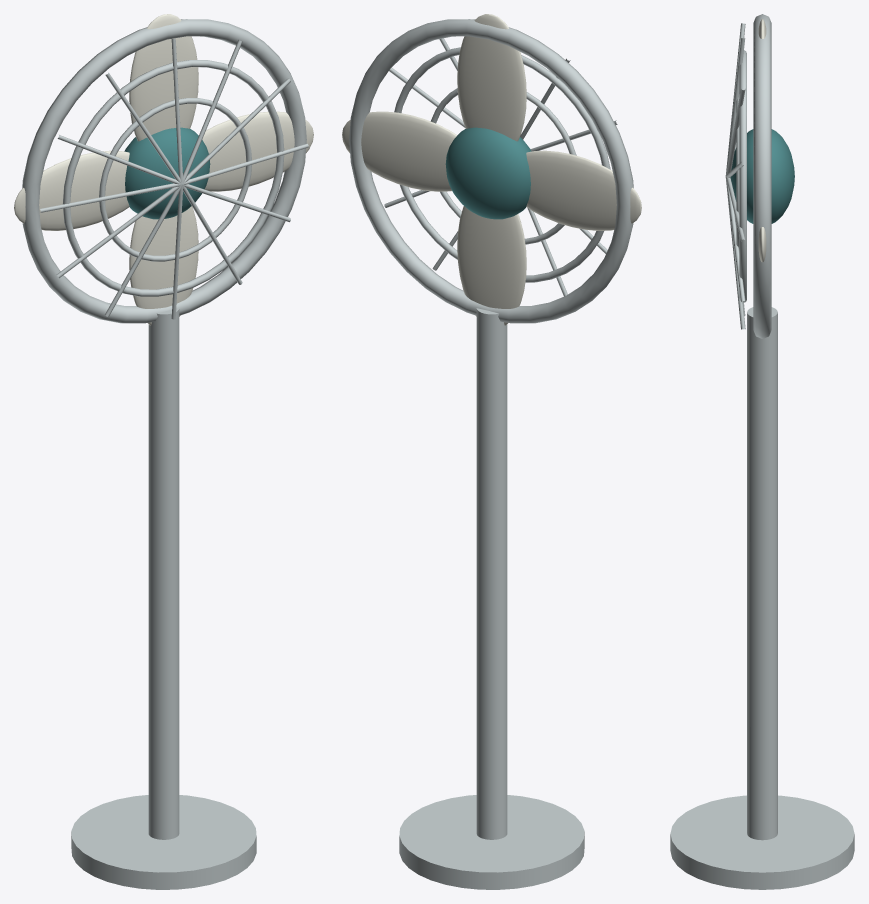
File: mushroom-farm-and-grow-rooms-circulation-fan-d5a1c149__30837.glb
The picture shows the model from 3 angles, left to right: view 1: azimuth 30°, elevation 25°; view 2: azimuth 150°, elevation 25°; view 3: azimuth 270°, elevation 25°; orthographic projection.
Visible parts, largest first — view 1: circulation-fan; view 2: circulation-fan; view 3: circulation-fan.
Part boxes in pixels (x1,y1,x2,y2): circulation-fan: [14, 14, 313, 889]; circulation-fan: [342, 14, 641, 889]; circulation-fan: [670, 14, 854, 889].
Size of the model in its own units: 0.448 by 1.19 by 0.24.
